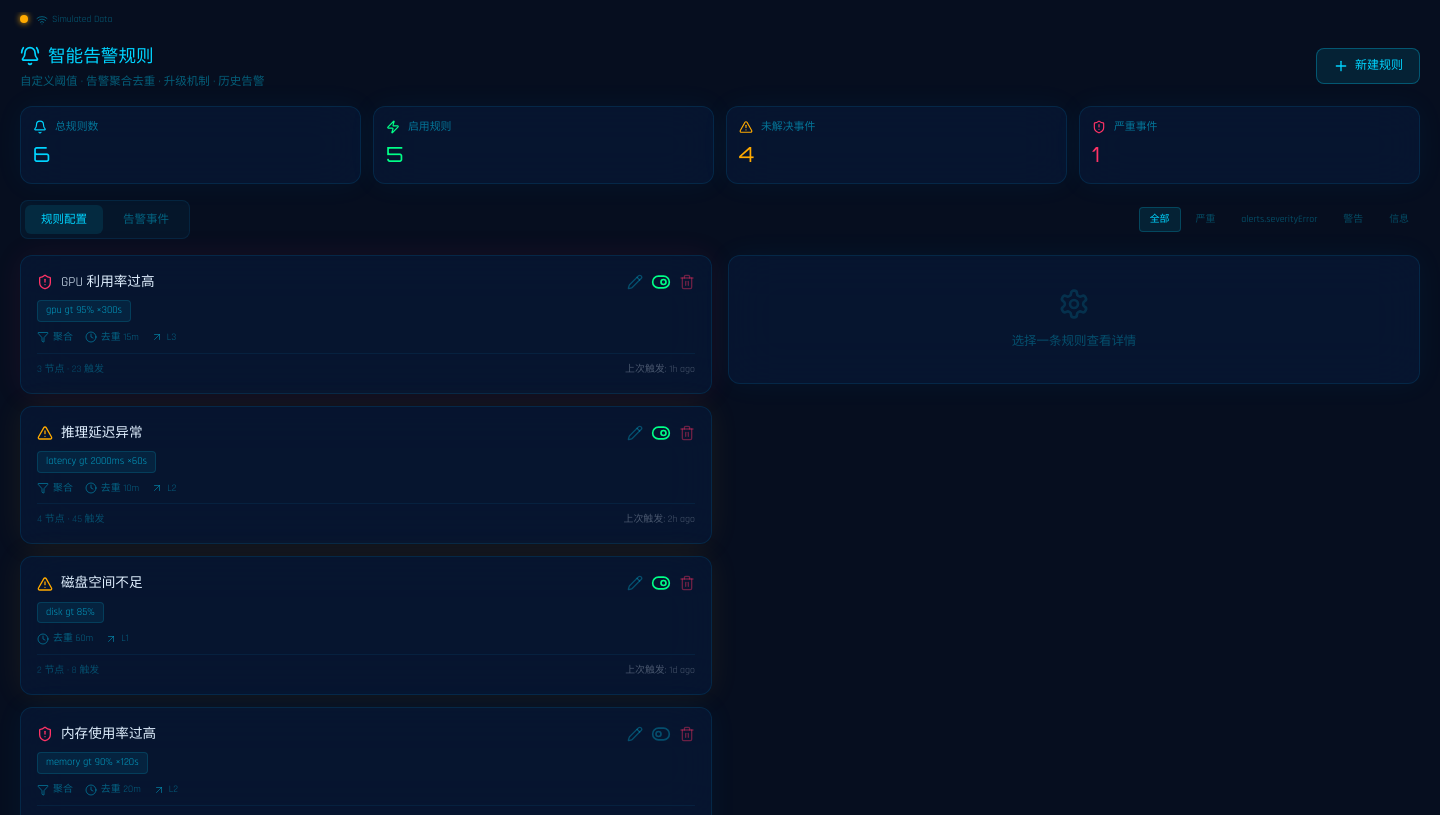
AlertRulesPanel › switches to events view
Click the button "告警事件" at point(146, 219), box top-left (107, 204), bottom-right (185, 234)
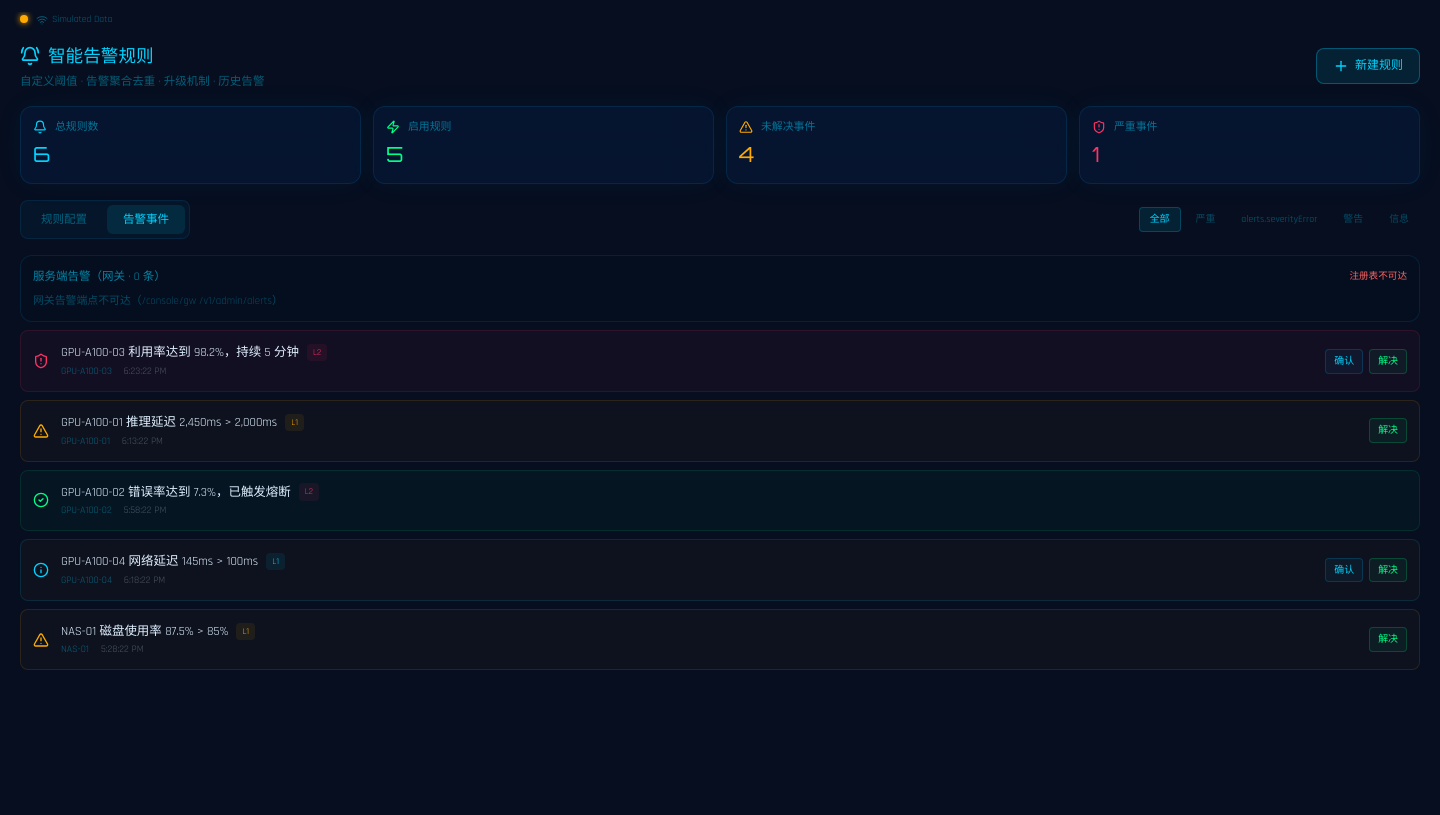
Now the text "GPU-A100-03 利用率达到 98.2%，持续 5 分钟" is shown, box top-left (61, 343), bottom-right (299, 362)
